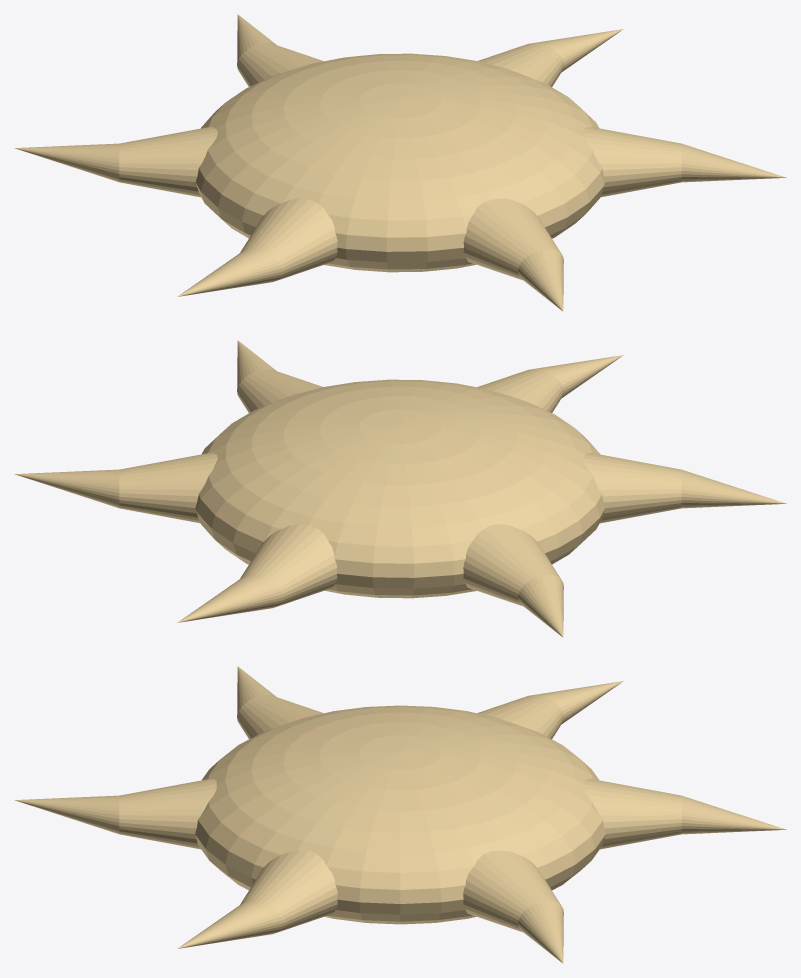
The model's file is Spike.dae.
3 views of the same model, one above another, from view 1: azimuth 30°, elevation 25°; view 2: azimuth 150°, elevation 25°; view 3: azimuth 270°, elevation 25° (orthographic).
Visible parts, largest first — view 1: Sphere, Cone.005, Cone.004, Cone.001, Cone, Cone.003, Cone.002; view 2: Sphere, Cone.002, Cone.005, Cone.003, Cone.004, Cone, Cone.001; view 3: Sphere, Cone.001, Cone, Cone.002, Cone.003, Cone.004, Cone.005.
Part boxes in pixels (<box>): Sphere: <box>195,53,605,272</box>; Cone.005: <box>177,198,337,296</box>; Cone.004: <box>14,127,217,197</box>; Cone.001: <box>583,127,786,197</box>; Cone: <box>463,198,563,311</box>; Cone.003: <box>478,29,623,86</box>; Cone.002: <box>237,14,323,86</box>; Sphere: <box>195,379,605,598</box>; Cone.002: <box>177,524,337,622</box>; Cone.005: <box>583,453,786,523</box>; Cone.003: <box>14,453,217,523</box>; Cone.004: <box>463,524,563,637</box>; Cone: <box>477,355,623,412</box>; Cone.001: <box>237,340,322,412</box>; Sphere: <box>195,705,605,924</box>; Cone.001: <box>177,850,337,948</box>; Cone: <box>14,779,216,849</box>; Cone.002: <box>584,779,786,849</box>; Cone.003: <box>463,850,563,963</box>; Cone.004: <box>477,681,623,739</box>; Cone.005: <box>237,666,323,739</box>.
Bounding box in the file's own units: 10.03 × 11 × 2.
